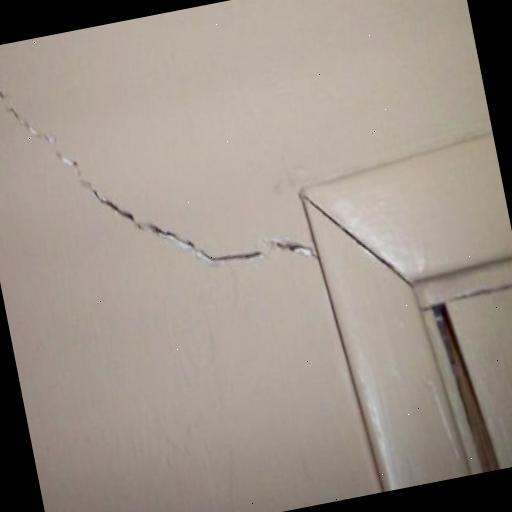spalling: (0, 85, 316, 274)
